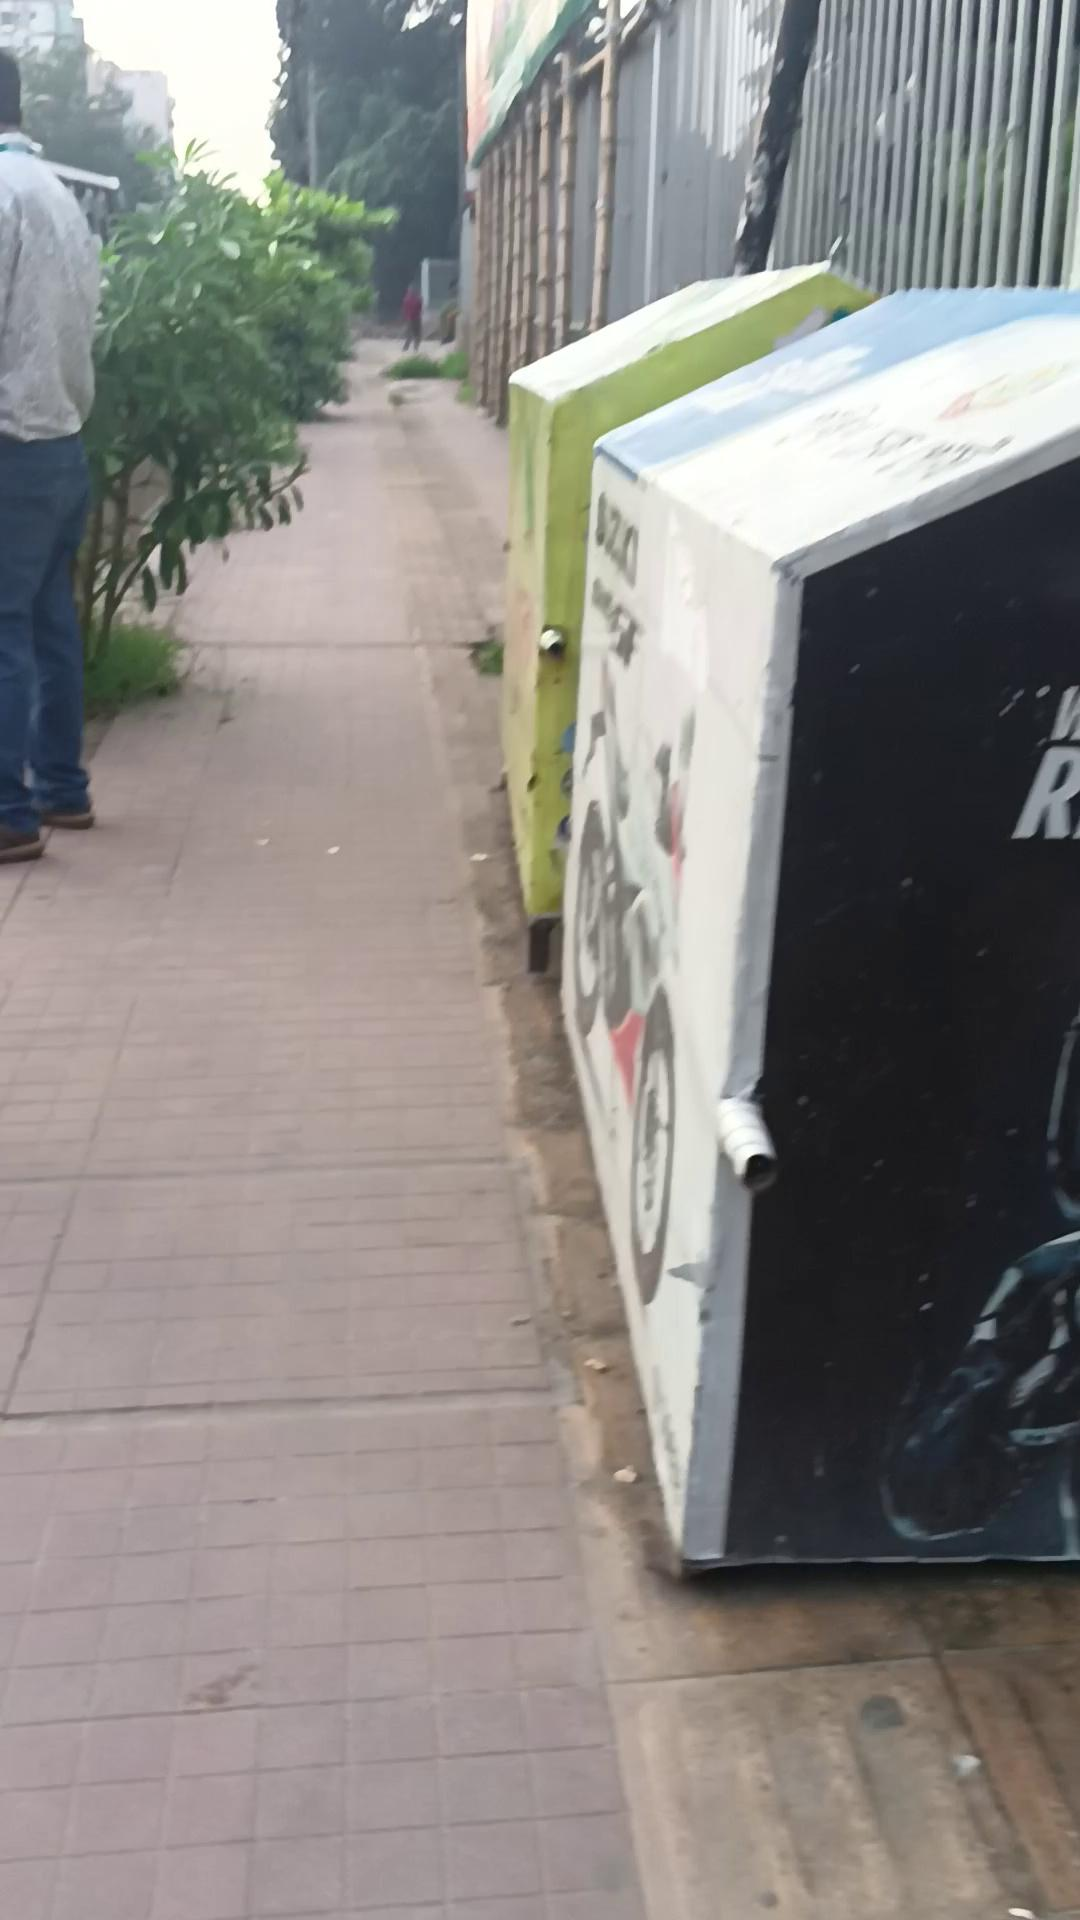Cat: (500, 279, 1078, 1578)
Muddy road: (0, 46, 104, 863), (398, 280, 422, 352)
Potted-plant: (2, 330, 1080, 1915)
